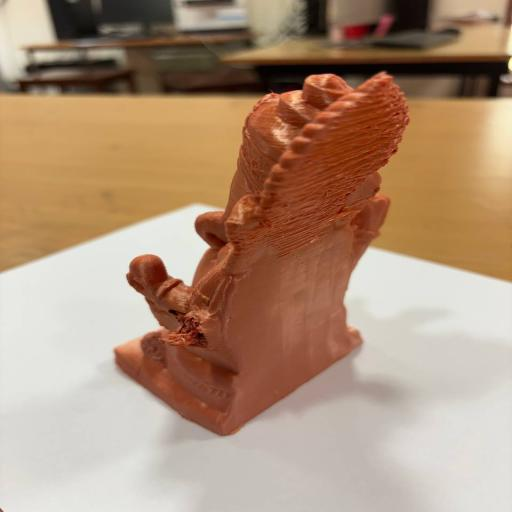cracks: (147, 296, 229, 364)
